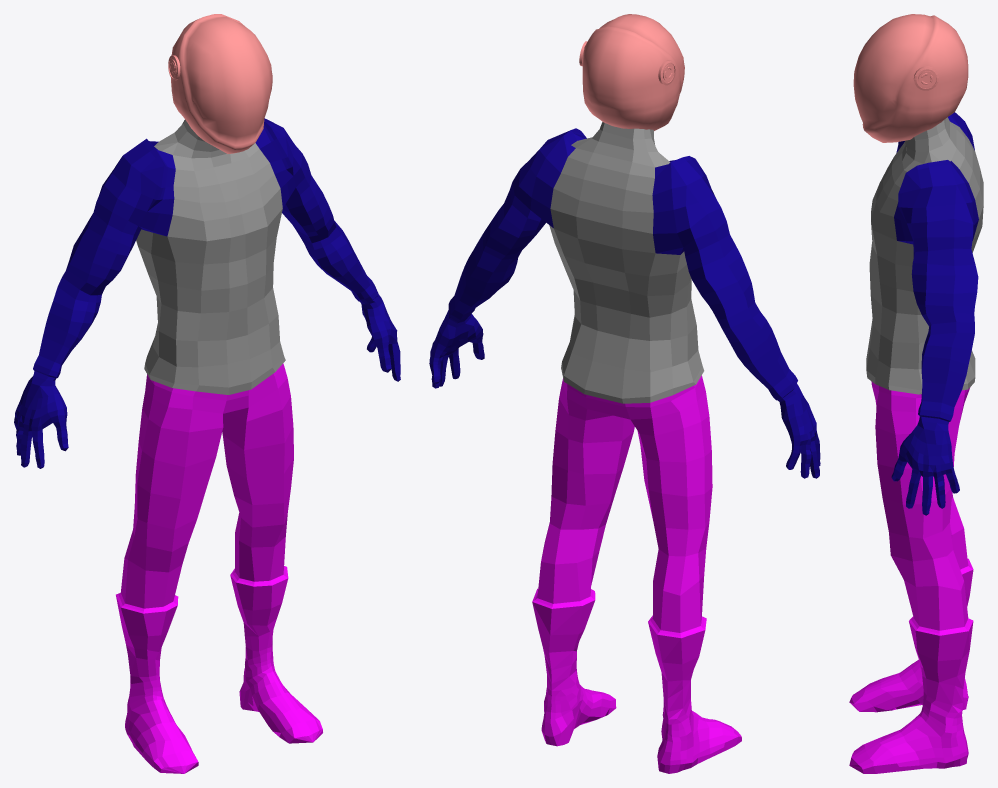
Rendered from personaje.obj.
3 views of the same model, side by side, from view 1: azimuth 30°, elevation 25°; view 2: azimuth 150°, elevation 25°; view 3: azimuth 270°, elevation 25° (orthographic).
Parts seen in each view (by area): view 1: Piernas, Object001, Brazos, Cabeza; view 2: Piernas, Object001, Brazos, Cabeza; view 3: Piernas, Brazos, Object001, Cabeza.
Part boxes in pixels (bbox=[...]): Piernas: bbox=[116, 363, 322, 773]; Object001: bbox=[136, 119, 285, 394]; Brazos: bbox=[14, 118, 400, 468]; Cabeza: bbox=[168, 14, 272, 153]; Piernas: bbox=[532, 375, 741, 773]; Object001: bbox=[549, 122, 704, 403]; Brazos: bbox=[429, 128, 820, 478]; Cabeza: bbox=[579, 14, 684, 130]; Piernas: bbox=[849, 381, 973, 773]; Brazos: bbox=[891, 112, 978, 515]; Object001: bbox=[866, 117, 983, 394]; Cabeza: bbox=[853, 14, 968, 142].
Size of the model in its own units: 11.76 by 21.13 by 3.59.
